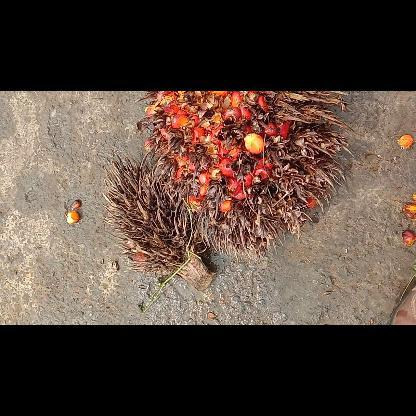Janjang kosong: (103, 154, 214, 290)
Terlalu masak: (140, 90, 352, 262)
